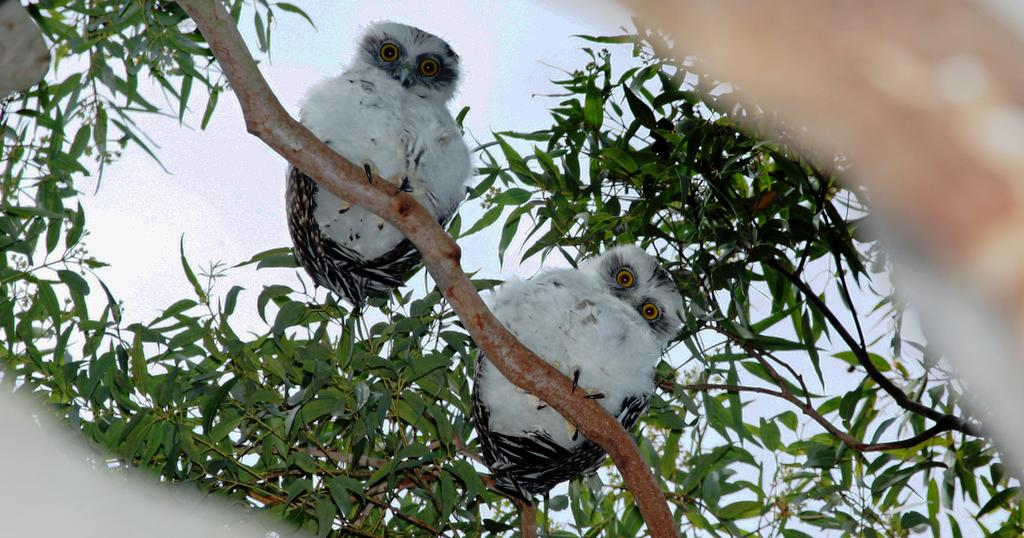Owl: (468, 240, 686, 505), (281, 21, 466, 316)
